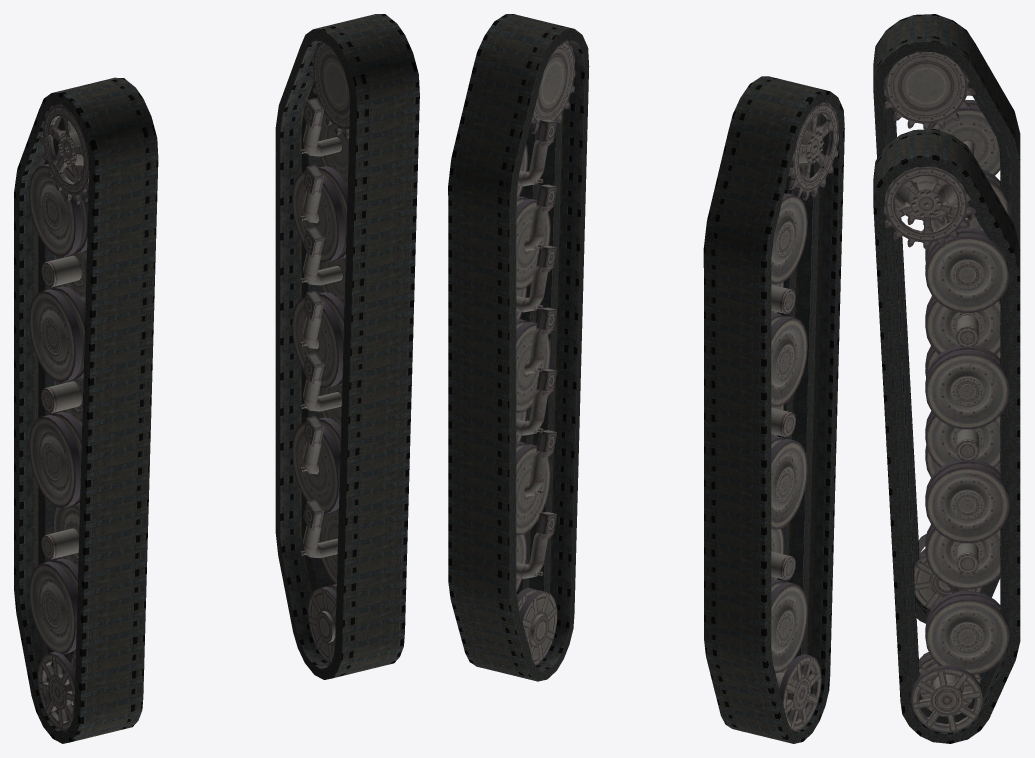
Rendered from Chassis.glb.
3 views of the same model, side by side, from view 1: azimuth 30°, elevation 25°; view 2: azimuth 150°, elevation 25°; view 3: azimuth 270°, elevation 25° (orthographic). The views are drawn at different scales.
Visible parts, largest first — view 1: set_1_group_0, set_0_group_0, set_2_group_0, set_3_group_0; view 2: set_1_group_0, set_0_group_0, set_3_group_0, set_2_group_0; view 3: set_3_group_0, set_1_group_0, set_0_group_0, set_2_group_0.
Part boxes in pixels (<box>): set_1_group_0: <box>275,14,419,679</box>; set_0_group_0: <box>14,77,158,743</box>; set_2_group_0: <box>29,104,89,731</box>; set_3_group_0: <box>292,41,349,663</box>; set_1_group_0: <box>448,14,589,681</box>; set_0_group_0: <box>703,76,844,743</box>; set_3_group_0: <box>516,41,575,665</box>; set_2_group_0: <box>771,102,838,731</box>; set_3_group_0: <box>884,166,1009,732</box>; set_1_group_0: <box>873,129,1020,743</box>; set_0_group_0: <box>873,14,1020,623</box>; set_2_group_0: <box>884,52,1009,609</box>.
Bounding box in the file's own units: 3.27 × 6.23 × 1.41.
Materials: 4 (4 with a texture image).
